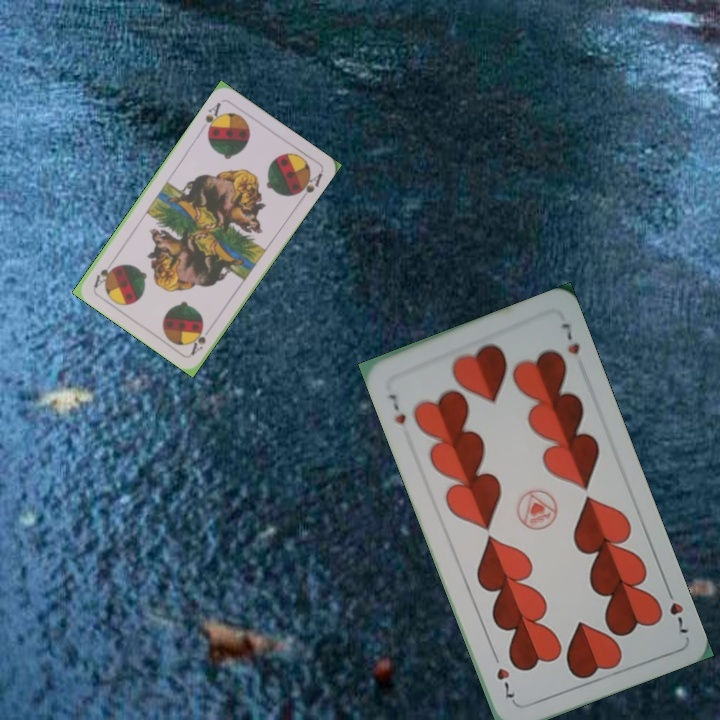H7: (661, 582, 691, 636), (384, 390, 409, 427)
SA: (201, 98, 224, 137), (186, 323, 209, 358)
